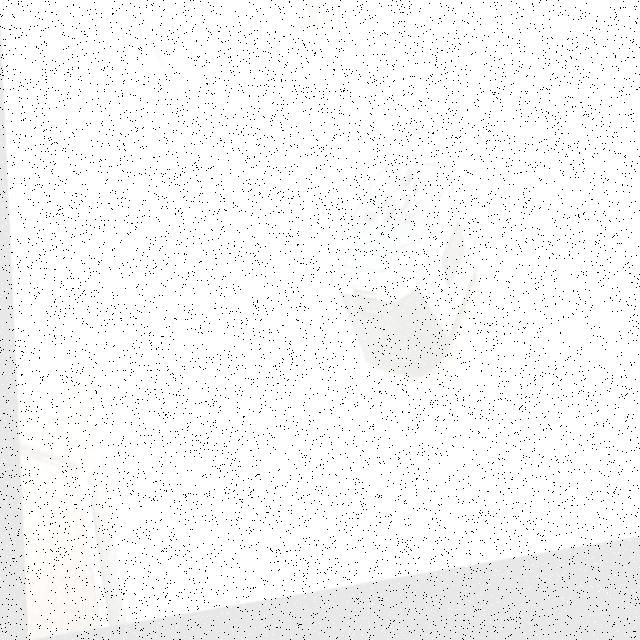adapter: (322, 161, 477, 403)
